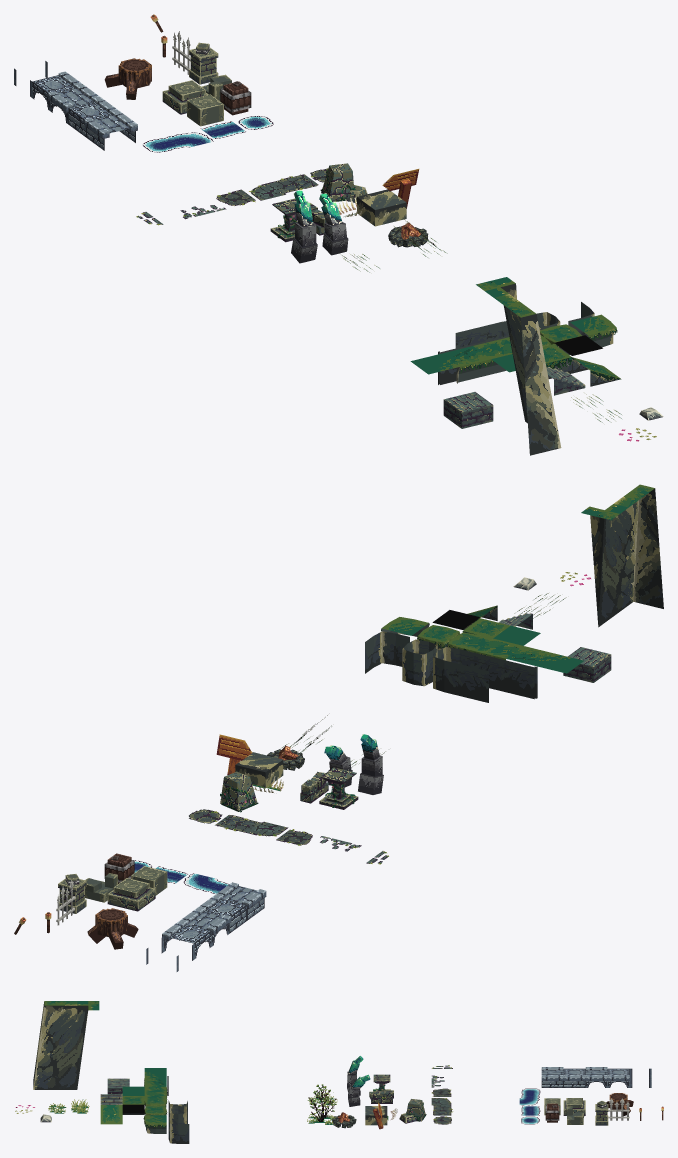
The model's file is LIB_GridMapMeshLibrary.gltf.
3 renders of one model, top to bottom at view 1: azimuth 30°, elevation 25°; view 2: azimuth 150°, elevation 25°; view 3: azimuth 270°, elevation 25°, orthographic. The views are drawn at different scales.
Parts seen in each view (by area): view 1: HillCorner, cube (×4), 1.0_StonePath, 1.2_Rock new plzdontoveride, 1.6.1_Crystal_FingerHigh, 1.6.1_Crystal_FingerLow, Edge, 1.0_HillEdge, 1.0_HillWall, Rock 3, Corner, 1.0_UpwardsPath (+3 smaller); view 2: HillCorner, 1.0_HillWall, SideEdge_Extension, 1.0_HillEdge, Single_Extension, End_Extension, Corner_Extension, 1.6.1_Crystal_FingerHigh, 1.2_Rock new plzdontoveride, 1.0_StonePath, Edge_Extension, Rock 3 (+3 smaller); view 3: 1.0_HillWall, HillCorner, cube (×3), 1.0_HillEdge, 1.0_UpwardsPath, Corner_Extension, Corner, 1.6.1_Crystal_FingerLow, 1.2_Rock new plzdontoveride, Single_Extension, 1.0_StonePath, 1.5.3_Stone_Brick_Wall (+8 smaller).
Boxes of the visible parts, x1,y1,x2,y2 form: HillCorner: (512,307,561,455); cube (×4): (32,75,223,150); 1.0_StonePath: (443,392,493,428); 1.2_Rock new plzdontoveride: (357,189,406,226); 1.6.1_Crystal_FingerHigh: (291,190,317,263); 1.6.1_Crystal_FingerLow: (319,193,348,255); Edge: (442,346,491,382); 1.0_HillEdge: (476,277,524,419); 1.0_HillWall: (494,294,527,423); Rock 3: (322,163,353,201); Corner: (570,314,617,347); 1.0_UpwardsPath: (572,357,621,386); HillCorner: (616,484,663,614); 1.0_HillWall: (598,491,645,627); SideEdge_Extension: (458,652,504,702); 1.0_HillEdge: (581,504,628,626); Single_Extension: (402,639,437,686); End_Extension: (433,647,473,695); Corner_Extension: (365,631,409,673); 1.6.1_Crystal_FingerHigh: (358,734,383,794); 1.2_Rock new plzdontoveride: (235,752,283,787); 1.0_StonePath: (563,647,611,682); Edge_Extension: (504,660,534,699); Rock 3: (220,771,257,810); 1.0_HillWall: (55,1001,77,1089); HillCorner: (33,1001,55,1089); cube (×3): (541,1068,629,1087); 1.0_HillEdge: (77,1001,99,1088); 1.0_UpwardsPath: (100,1105,122,1124); Corner_Extension: (168,1120,189,1143); Corner: (143,1115,166,1133); 1.6.1_Crystal_FingerLow: (348,1074,370,1106); 1.2_Rock new plzdontoveride: (365,1106,387,1125); Single_Extension: (168,1106,187,1123); 1.0_StonePath: (107,1078,129,1094); 1.5.3_Stone_Brick_Wall: (369,1090,393,1103).
Size of the model in its own units: 16.06 by 9 by 59.06.
Materials: 6 (6 with a texture image).
